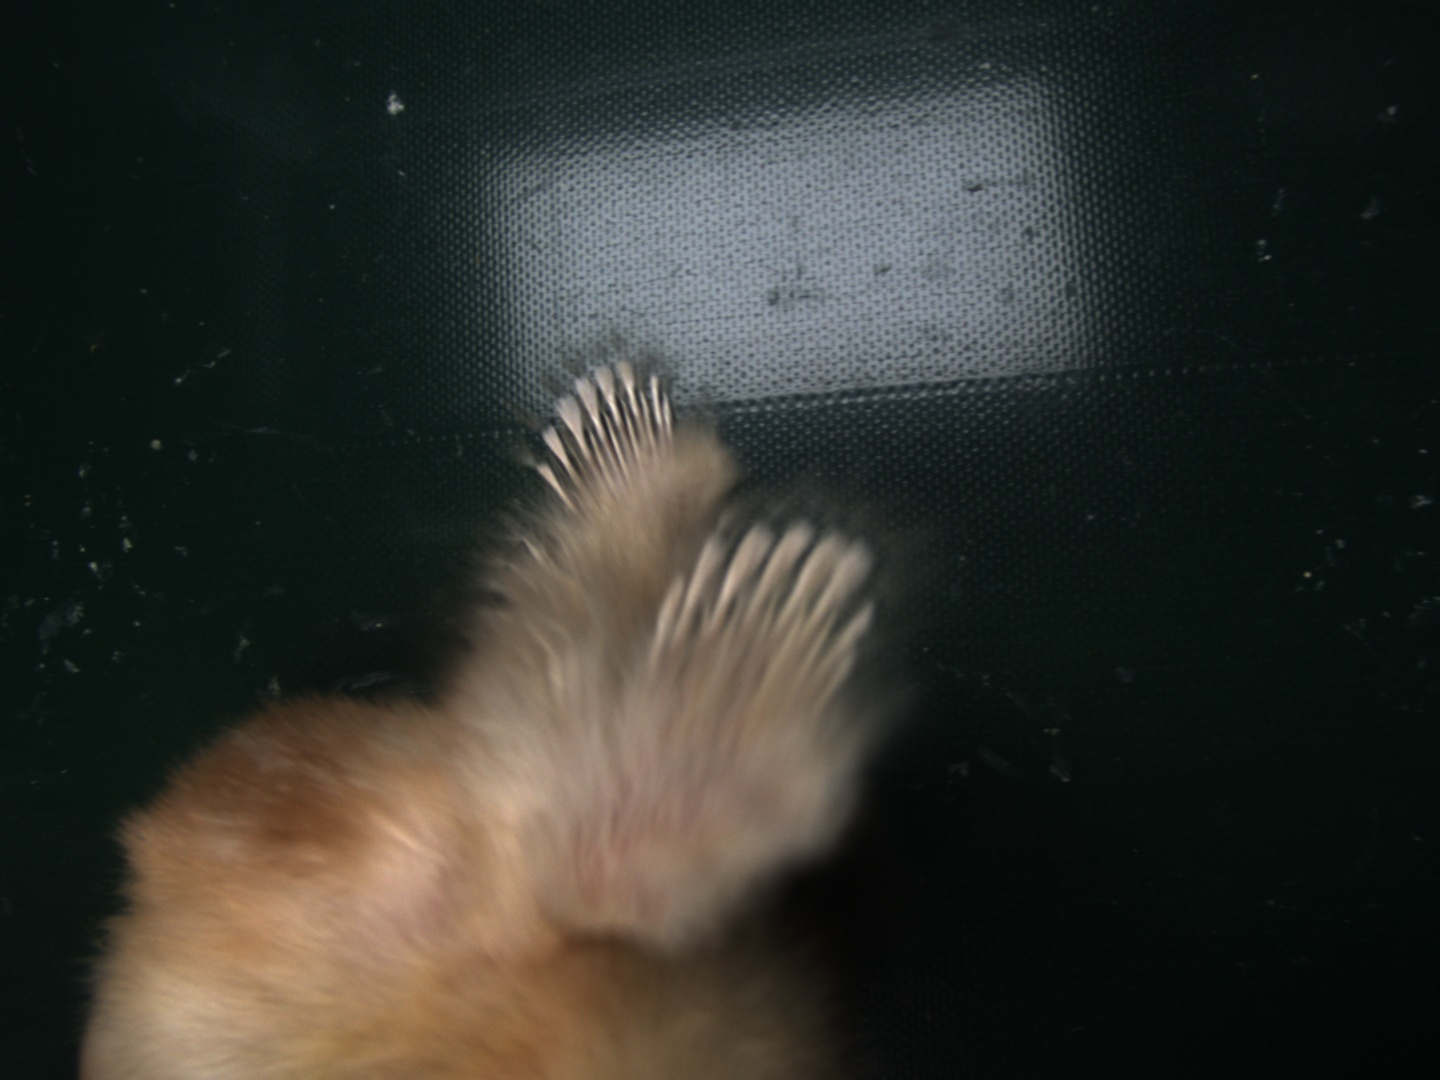female: (525, 358, 681, 523)
